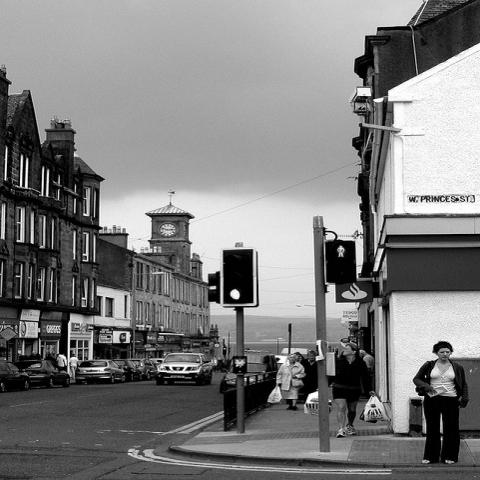car: (14, 360, 71, 388), (74, 358, 127, 385), (0, 360, 32, 392), (114, 359, 143, 382), (127, 358, 157, 380), (281, 348, 310, 359), (274, 355, 288, 372)
truck: (152, 353, 214, 385)
